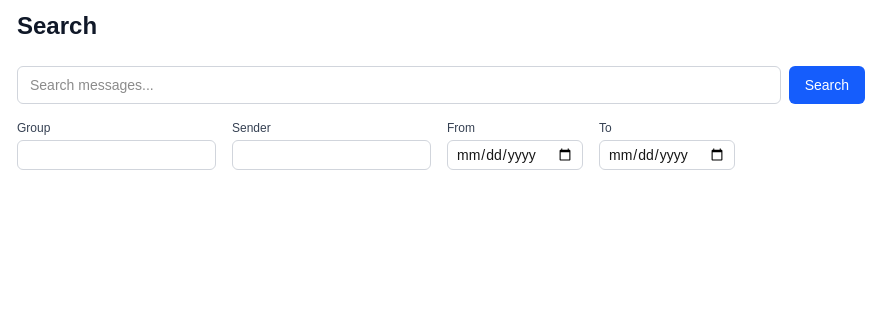
Test: SearchPage › shows empty state when no results and query submitted
// Type a query and submit to trigger searched state
Type "nonexistent" into the field with placeholder "Search messages..." at (399, 85), box left=17, top=66, right=781, bottom=104
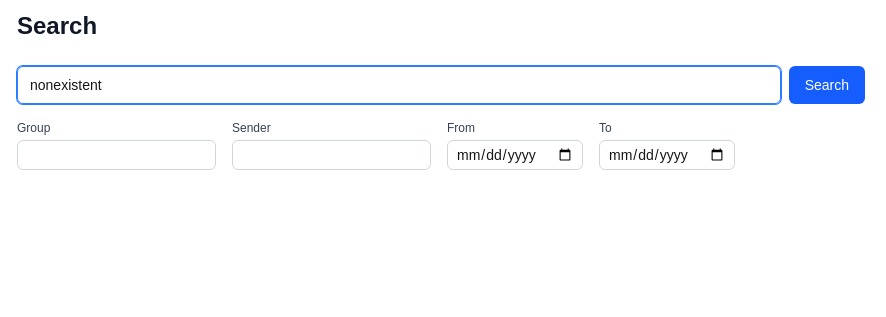
Click the button "Search" at (827, 85), box left=789, top=66, right=865, bottom=104
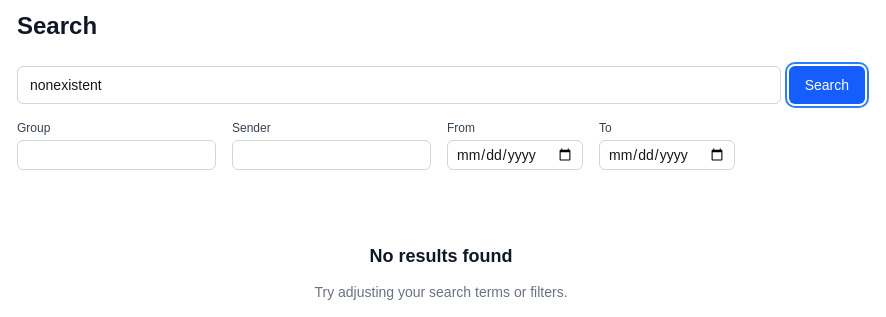
Now the heading "No results found" is shown, box left=370, top=242, right=512, bottom=270
